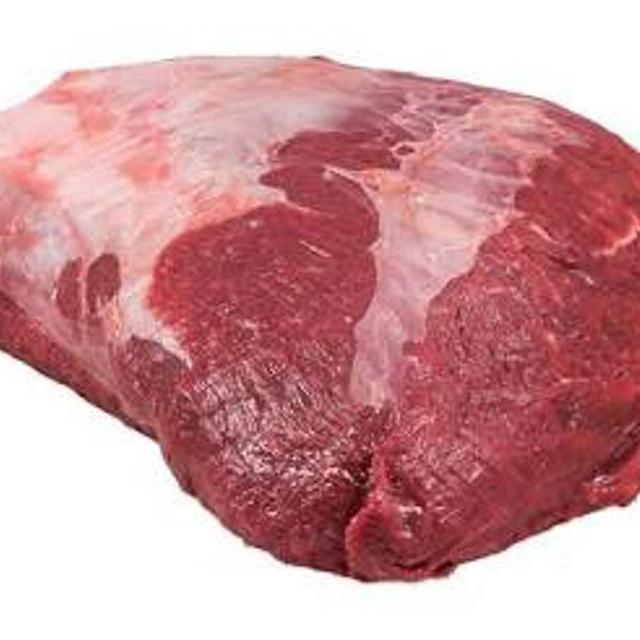beef: (0, 41, 640, 603)
